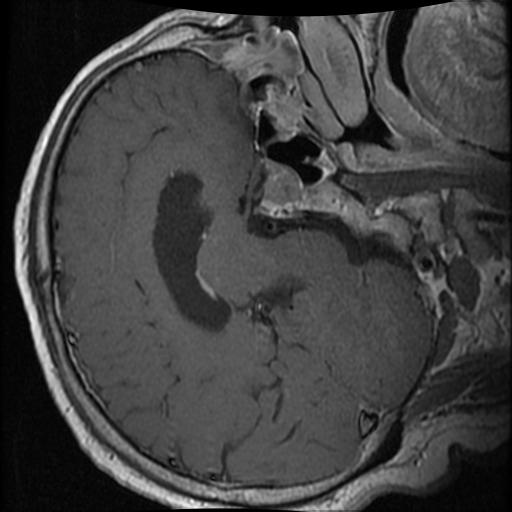pituitary tumour: (258, 158, 306, 206)
